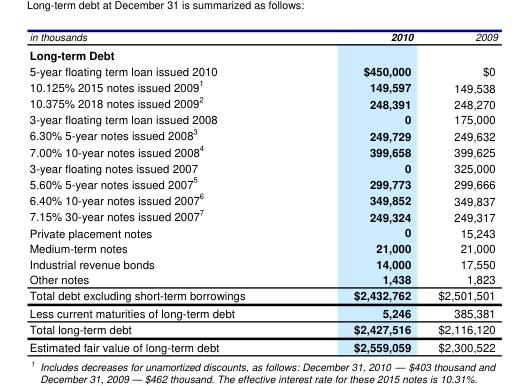table: (28, 29, 496, 354)
table column: (28, 29, 298, 354), (298, 29, 424, 354), (424, 29, 496, 354)
table column header: (28, 29, 496, 45)
table projected row header: (28, 45, 496, 62)
table row: (28, 45, 496, 62), (28, 77, 496, 94), (28, 94, 496, 111), (28, 142, 496, 159), (28, 190, 496, 207), (28, 207, 496, 224), (28, 286, 496, 303), (28, 303, 496, 320), (28, 320, 496, 337), (28, 337, 496, 354), (28, 29, 496, 45), (28, 126, 496, 142), (28, 174, 496, 190), (28, 239, 496, 255), (28, 255, 496, 271), (28, 62, 496, 77), (28, 111, 496, 126), (28, 159, 496, 174), (28, 224, 496, 239), (28, 271, 496, 286)
